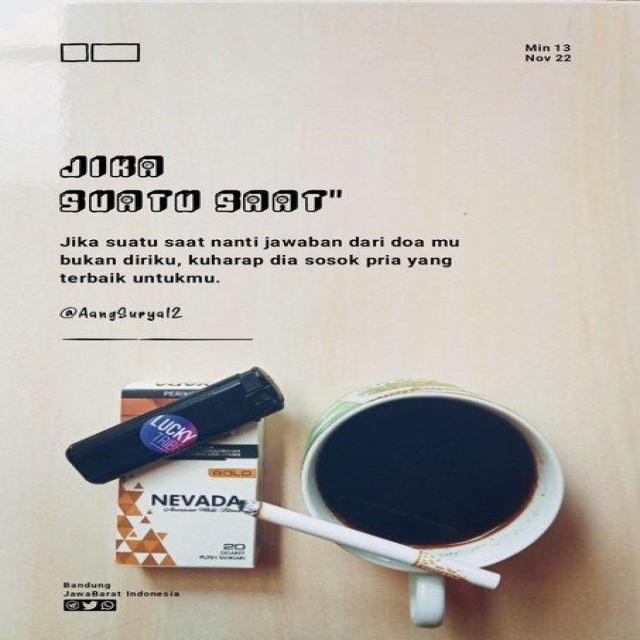rokok: (238, 492, 504, 588)
